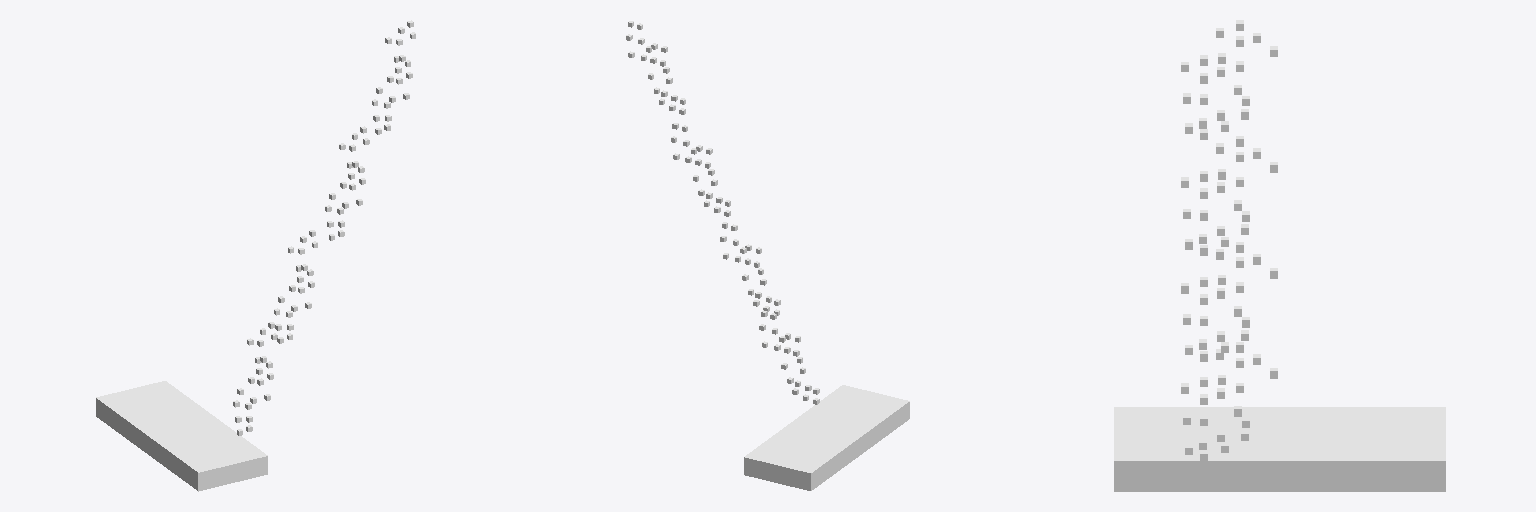
URDF robot description (scale_spidey):
<robot name="scale_spidey">
  <link name="base_link">
    <visual>
      <origin xyz="0 0 0" rpy="0 0 0" />
      <geometry>
        <mesh filename="package://hpp-rbprm-corba/meshes/scale_spidey.stl"/>
      </geometry>
      <material name="white">
        <color rgba="1 1 1 1"/>
      </material>
    </visual>
    <collision>
      <origin xyz="0 0 0" rpy="0 0 0" />
      <geometry>
        <mesh filename="package://hpp-rbprm-corba/meshes/scale_spidey.stl"/>
      </geometry>
    </collision>
  </link>
</robot>

--- What the picture shows (computed from the rendered views, not written in the file) ---
Views: 3 orthographic renders of the robot side by side, from view 1: azimuth 30°, elevation 25°; view 2: azimuth 150°, elevation 25°; view 3: azimuth 270°, elevation 25°.
Robot: scale_spidey — 1 links, 0 joints (none); root link base_link; default pose: all joints at 0.
Links seen in each view (by area): view 1: base_link; view 2: base_link; view 3: base_link.
Boxes of the visible links, x1,y1,x2,y2 form: base_link: [96, 20, 415, 491]; base_link: [626, 21, 909, 490]; base_link: [1114, 20, 1445, 491].
Size in the robot's own frame: 7.11 by 5 by 10.19 metres.
Meshes: 1 distinct files referenced, 1 mesh visuals loaded (1 binary STL).
